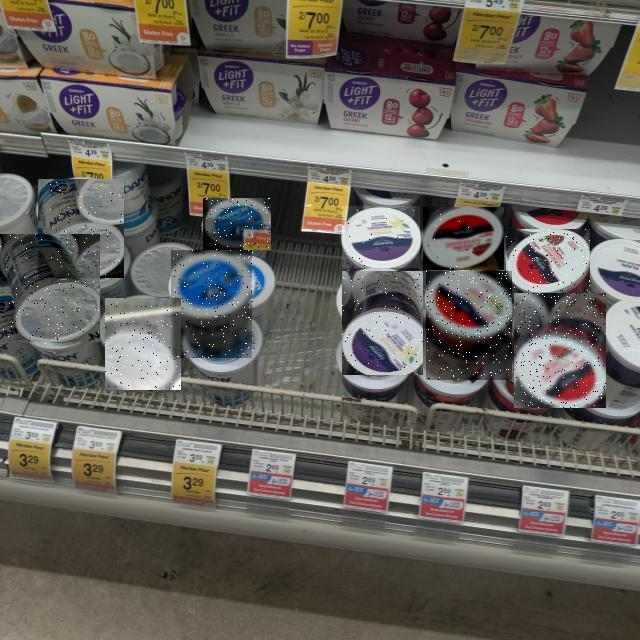Yoghurt: (0, 234, 100, 342), (514, 293, 606, 408), (426, 271, 512, 380), (172, 250, 254, 358), (39, 179, 125, 278), (342, 271, 423, 375), (105, 298, 181, 390), (506, 229, 590, 293), (423, 207, 504, 270), (342, 206, 420, 268), (203, 198, 271, 250)
